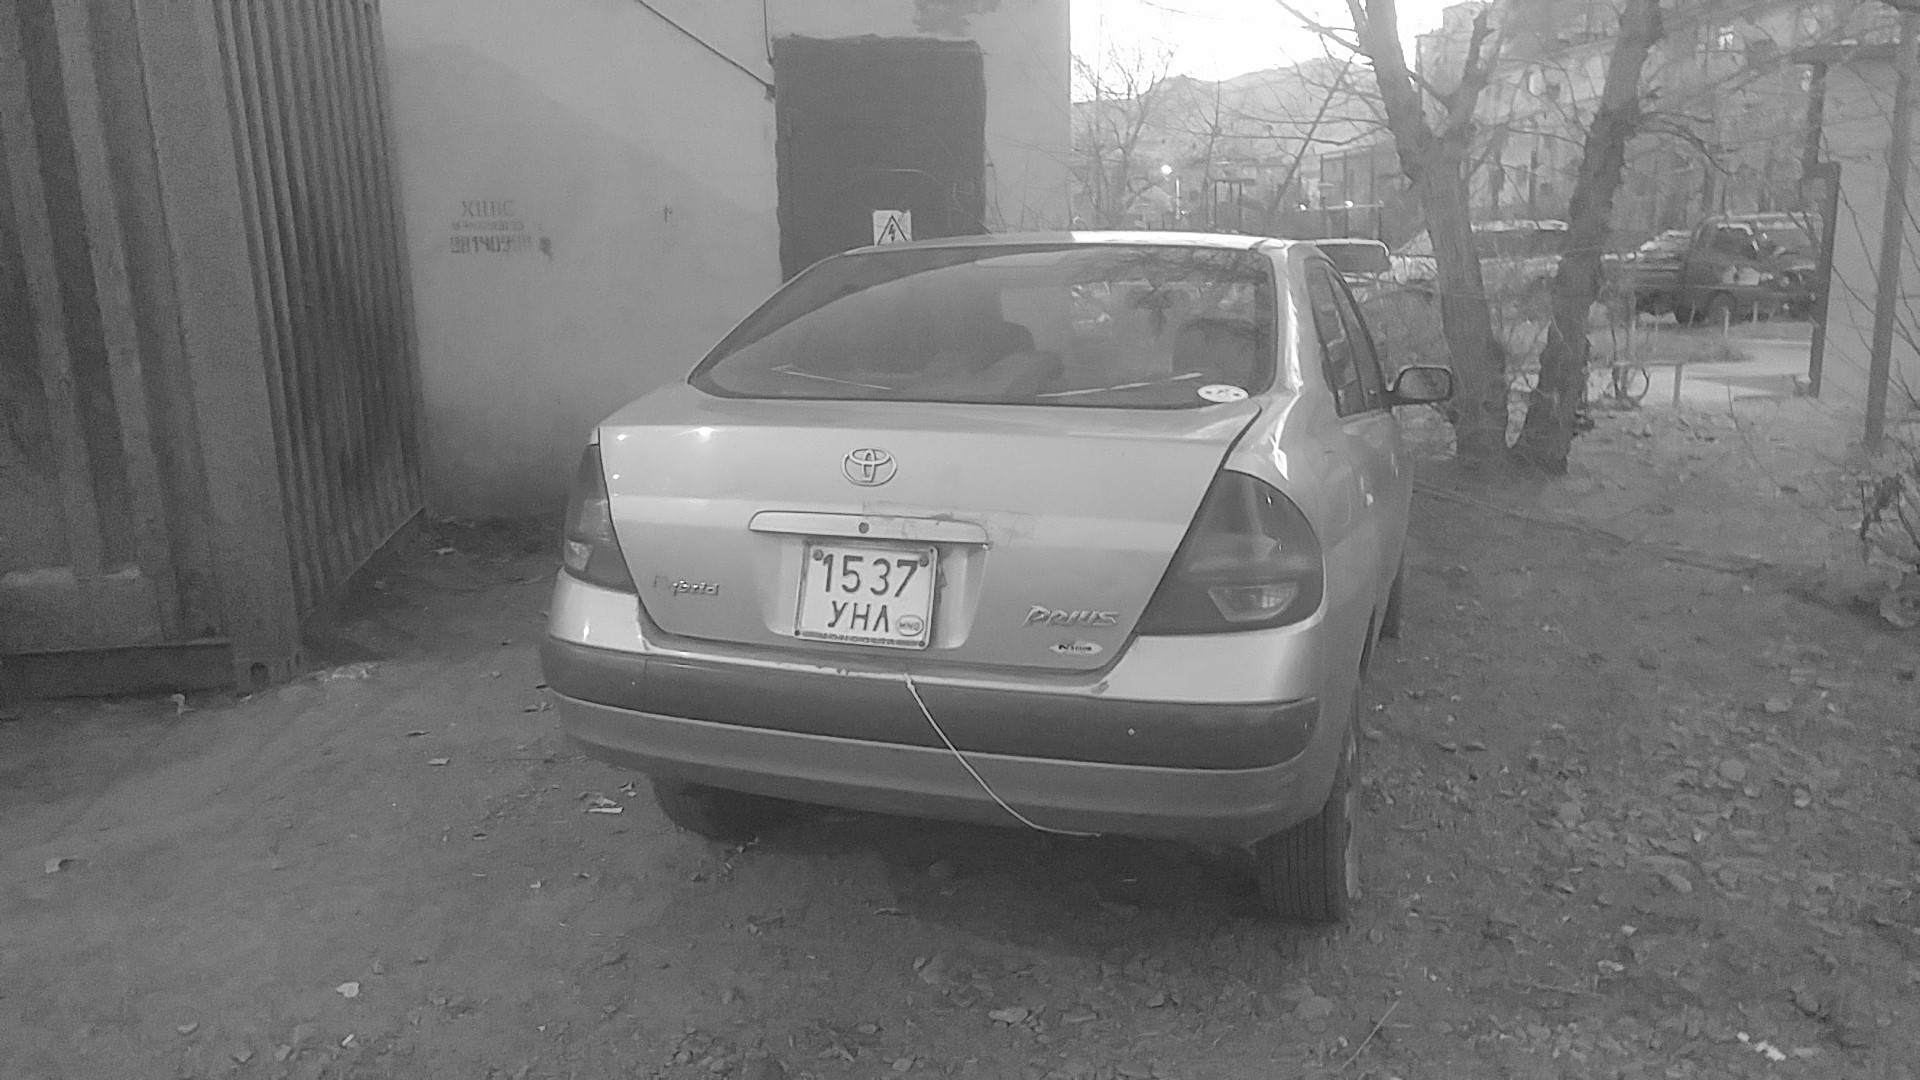1: (821, 553, 835, 593)
3: (870, 557, 891, 597)
5: (841, 554, 863, 593)
7: (894, 559, 919, 598)
l: (871, 605, 890, 633)
n: (850, 601, 870, 631)
plate: (791, 536, 941, 650)
u: (827, 601, 848, 628)
